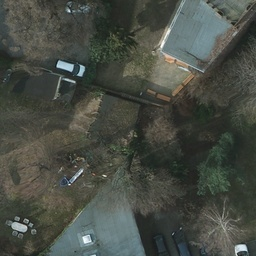car: (54, 61, 86, 76)
